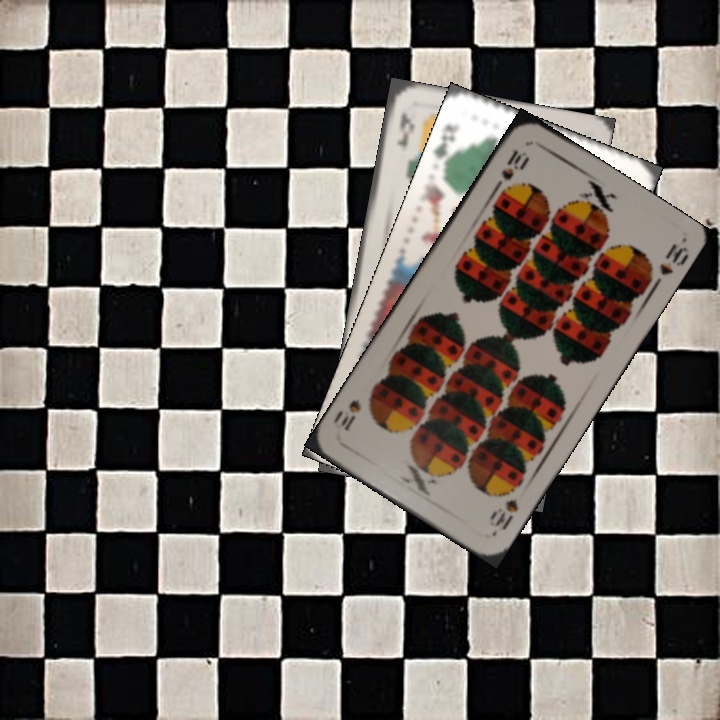EK: (393, 108, 417, 154)
GK: (430, 120, 462, 171)
S10: (490, 145, 530, 193), (487, 494, 522, 533)
